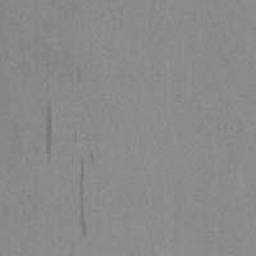Inclusion: (77, 155, 88, 237), (44, 96, 55, 165)
